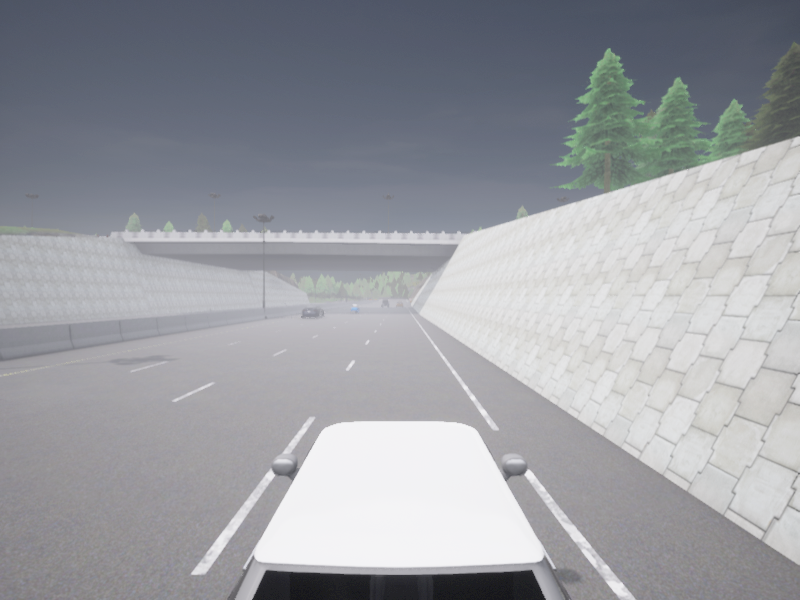vehicle: (227, 421, 570, 599), (302, 306, 323, 317), (351, 305, 359, 313), (382, 300, 389, 307), (396, 301, 402, 306)
